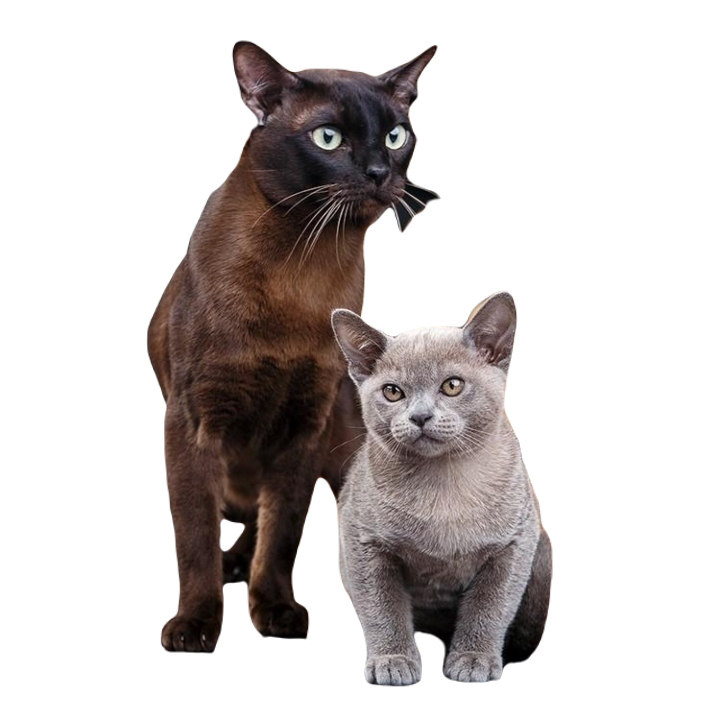Cat: (324, 290, 569, 694)
